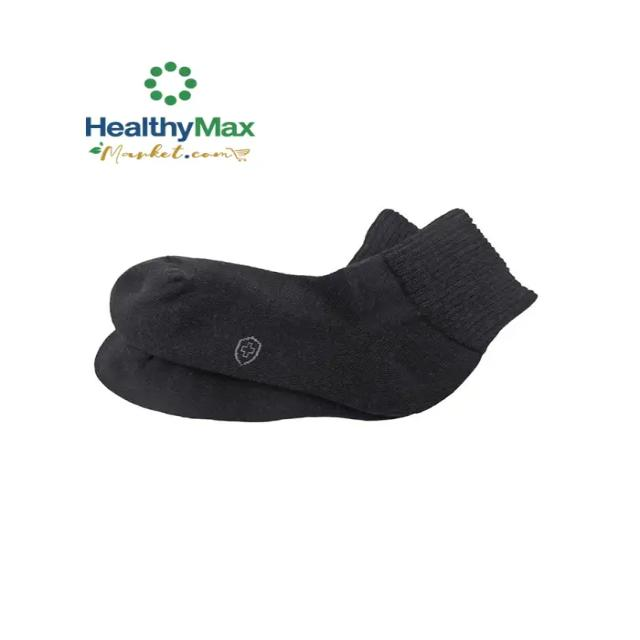sock: (95, 206, 538, 421)
